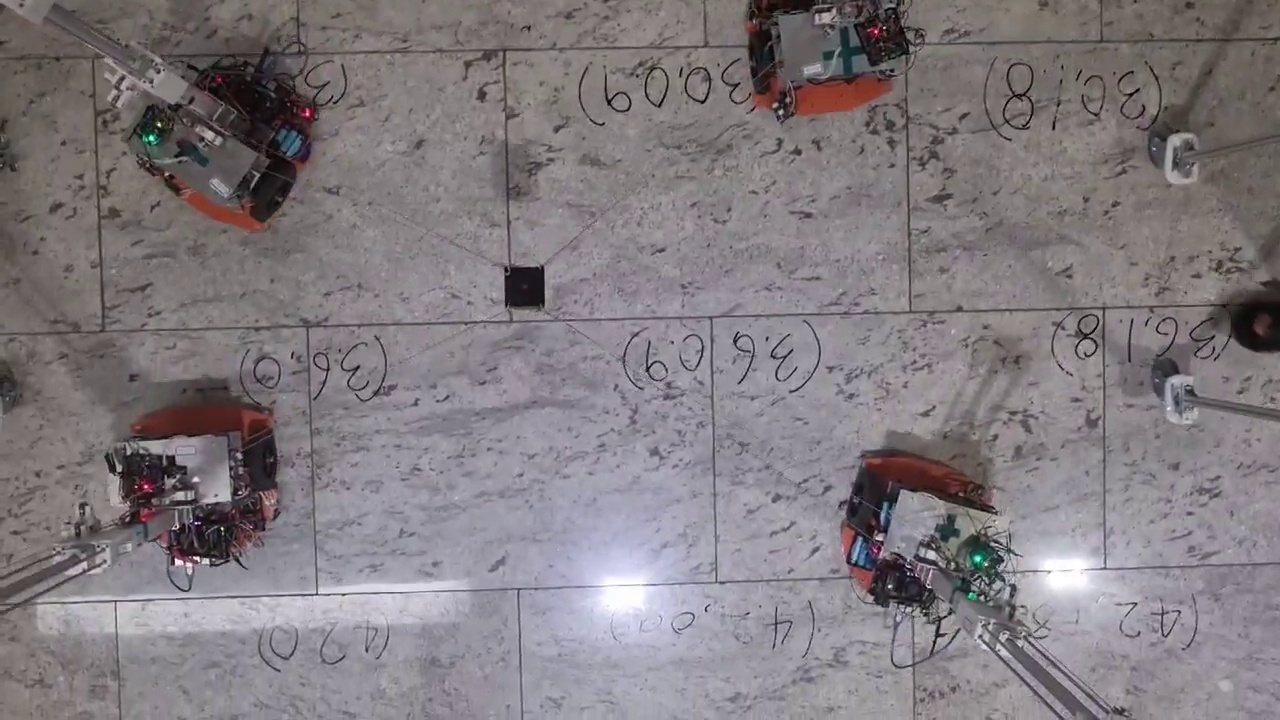e0: (504, 266, 546, 309)
r1: (844, 465, 999, 565)
r2: (748, 11, 904, 94)
r3: (126, 109, 299, 223)
r4: (107, 427, 278, 501)
y_+_axis_vector: (711, 310, 1103, 316)
y_-_axis_vector: (308, 317, 711, 327)
